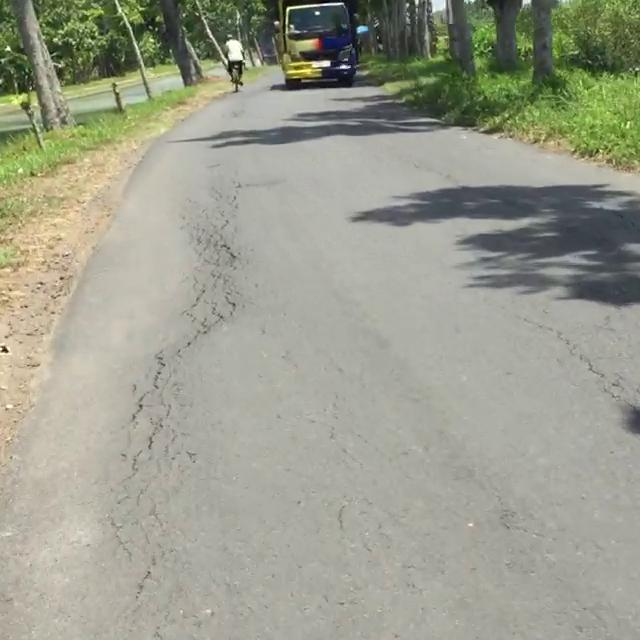retak_kulit_buaya: (121, 190, 254, 461)
